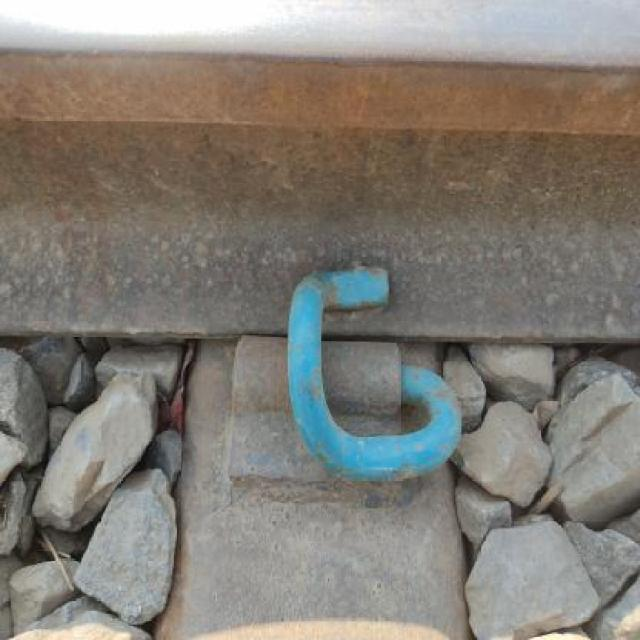non-defective: (1, 4, 640, 441)
